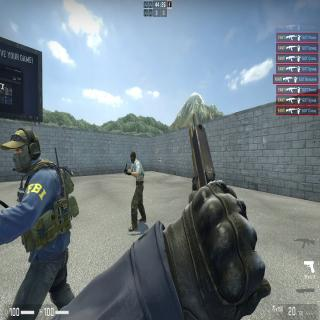CT-Body: (13, 129, 71, 309)
CT-Head: (13, 128, 37, 172)
T-Body: (130, 151, 144, 231)
T-Head: (130, 150, 136, 164)
